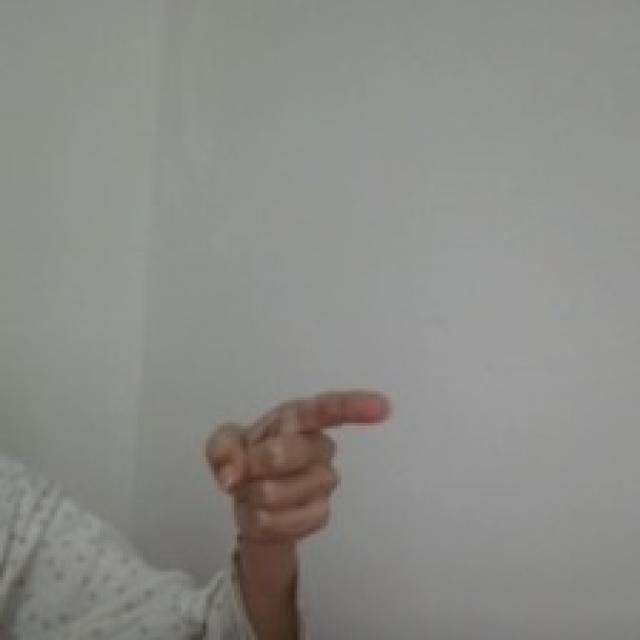you: (199, 379, 400, 551)
